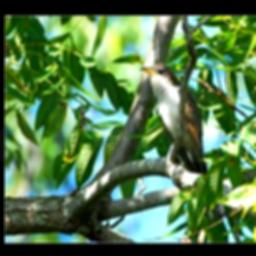Cuckoo: (140, 61, 208, 172)
